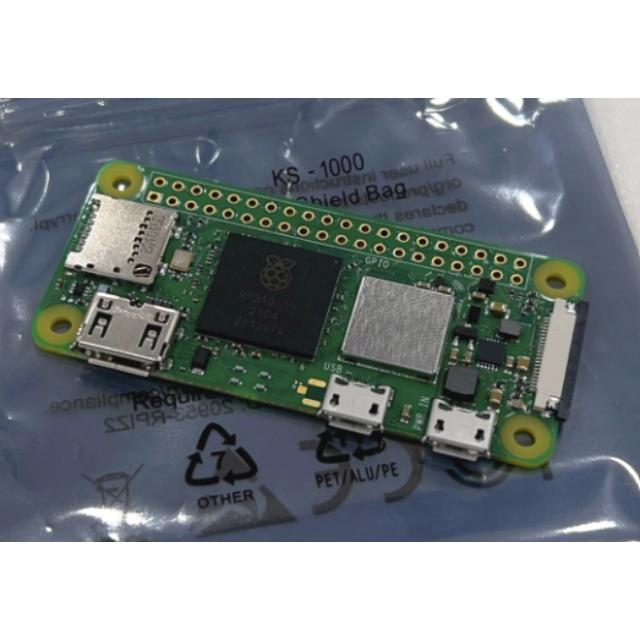Raspberry-Pi-Zero-2-W: (33, 162, 586, 469)
